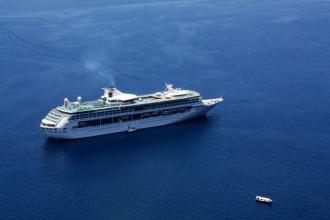otherboat: (255, 194, 275, 204)
youlun: (42, 81, 223, 139)
